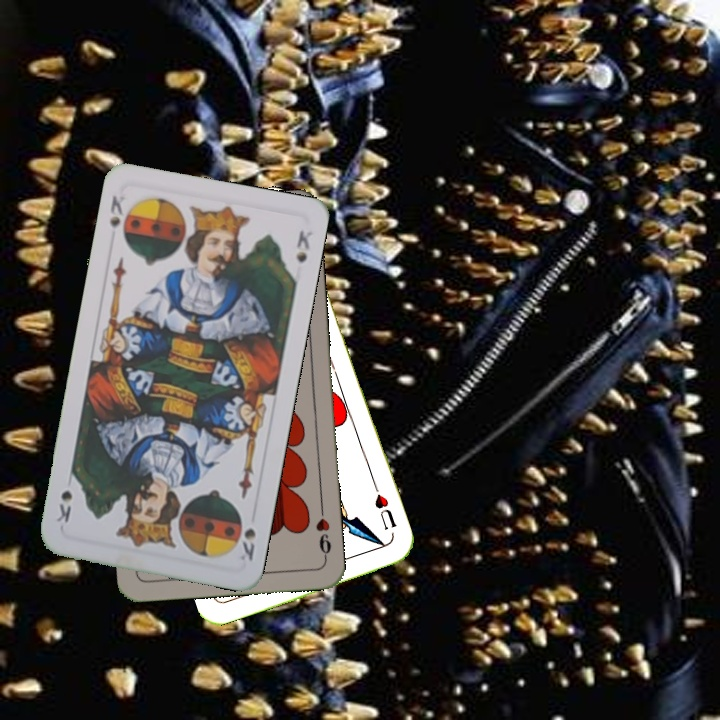H9: (311, 504, 334, 563)
HU: (370, 490, 399, 533)
SK: (105, 187, 133, 245), (231, 512, 259, 564)
